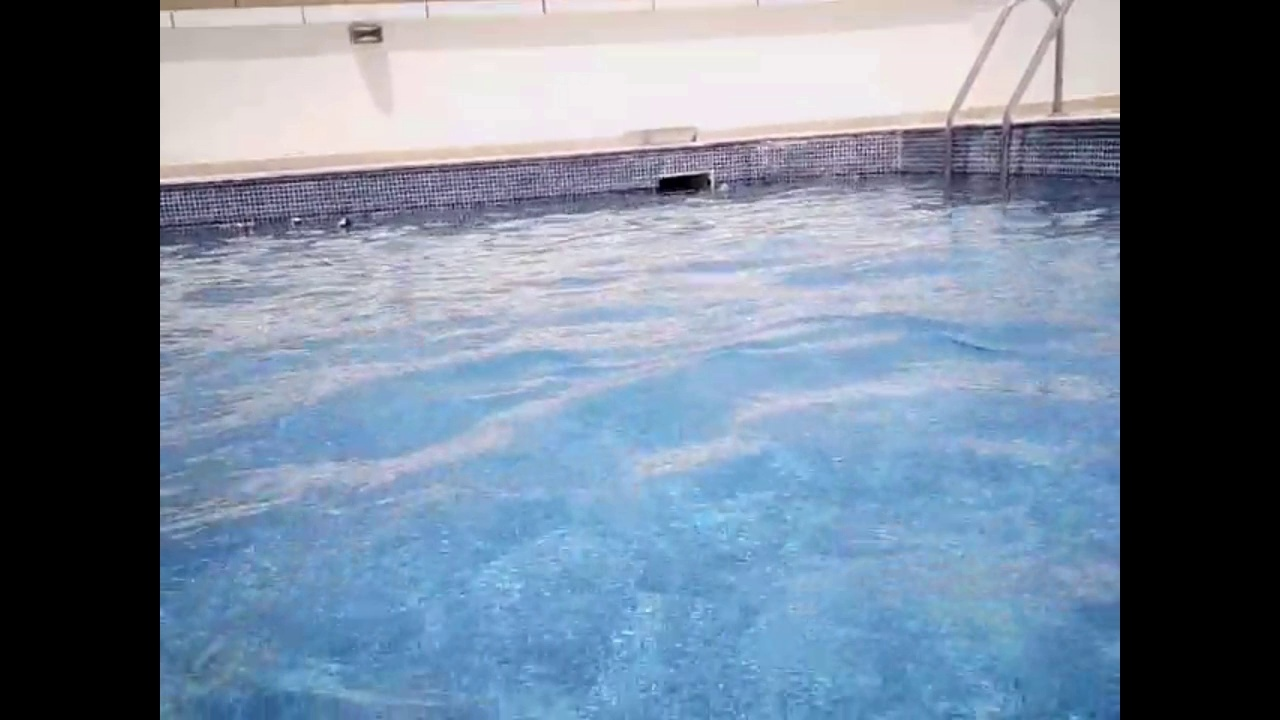debris: (332, 214, 357, 235), (714, 178, 734, 196), (287, 213, 306, 229)
